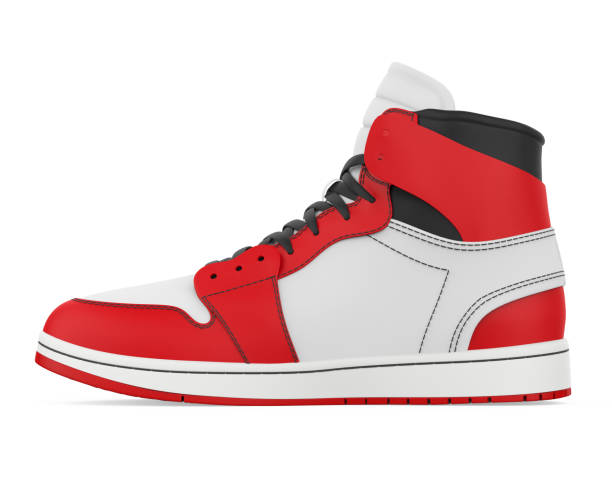Footwear: (21, 60, 579, 416)
